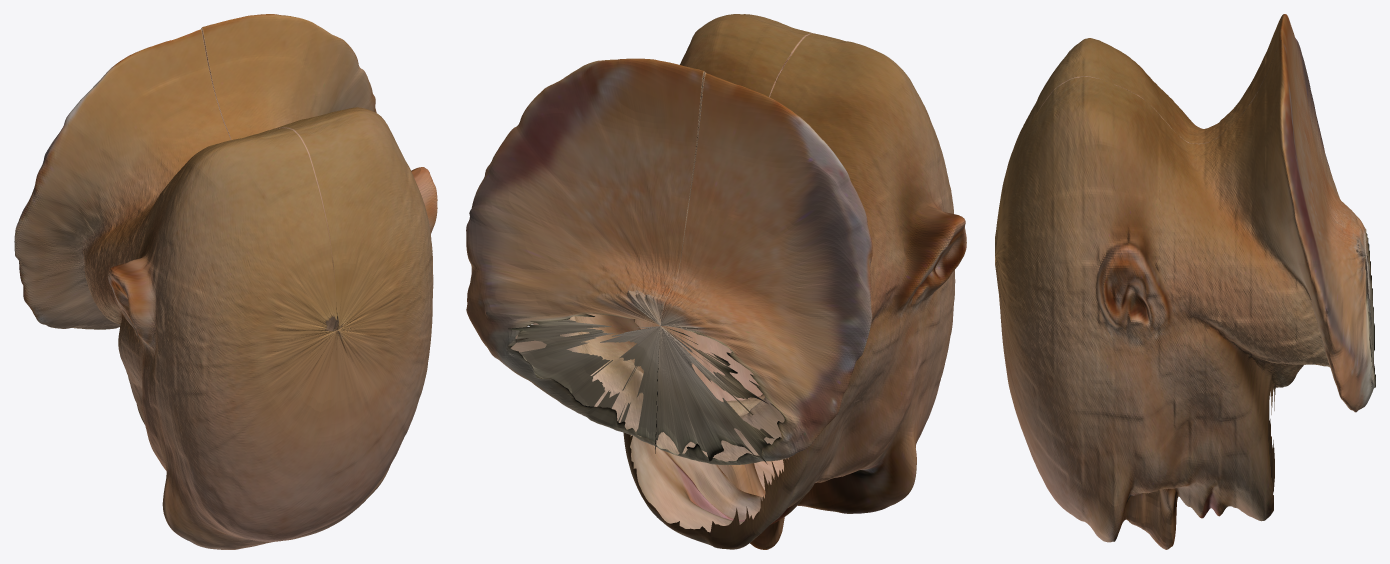
The picture shows the model from 3 angles, left to right: view 1: azimuth 30°, elevation 25°; view 2: azimuth 150°, elevation 25°; view 3: azimuth 270°, elevation 25°; orthographic projection. The views are drawn at different scales.
Parts seen in each view (by area): view 1: geometry_0; view 2: geometry_0; view 3: geometry_0.
Part boxes in pixels (bbox=[...]): geometry_0: bbox=[14, 14, 437, 549]; geometry_0: bbox=[466, 14, 966, 549]; geometry_0: bbox=[995, 14, 1375, 549].
Size of the model in its own units: 1.39 by 1.73 by 1.17.
Materials: 1 (1 with a texture image).
